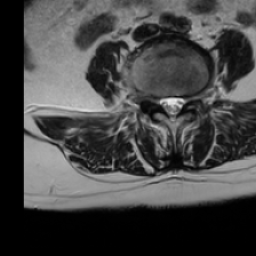CCS_normal: (168, 87, 176, 128)
LFS_stenosis: (184, 87, 193, 113)
LLS_normal: (176, 89, 184, 120)
RFS_severe_stenosis: (150, 89, 160, 113)
RLS_normal: (160, 89, 168, 114)
